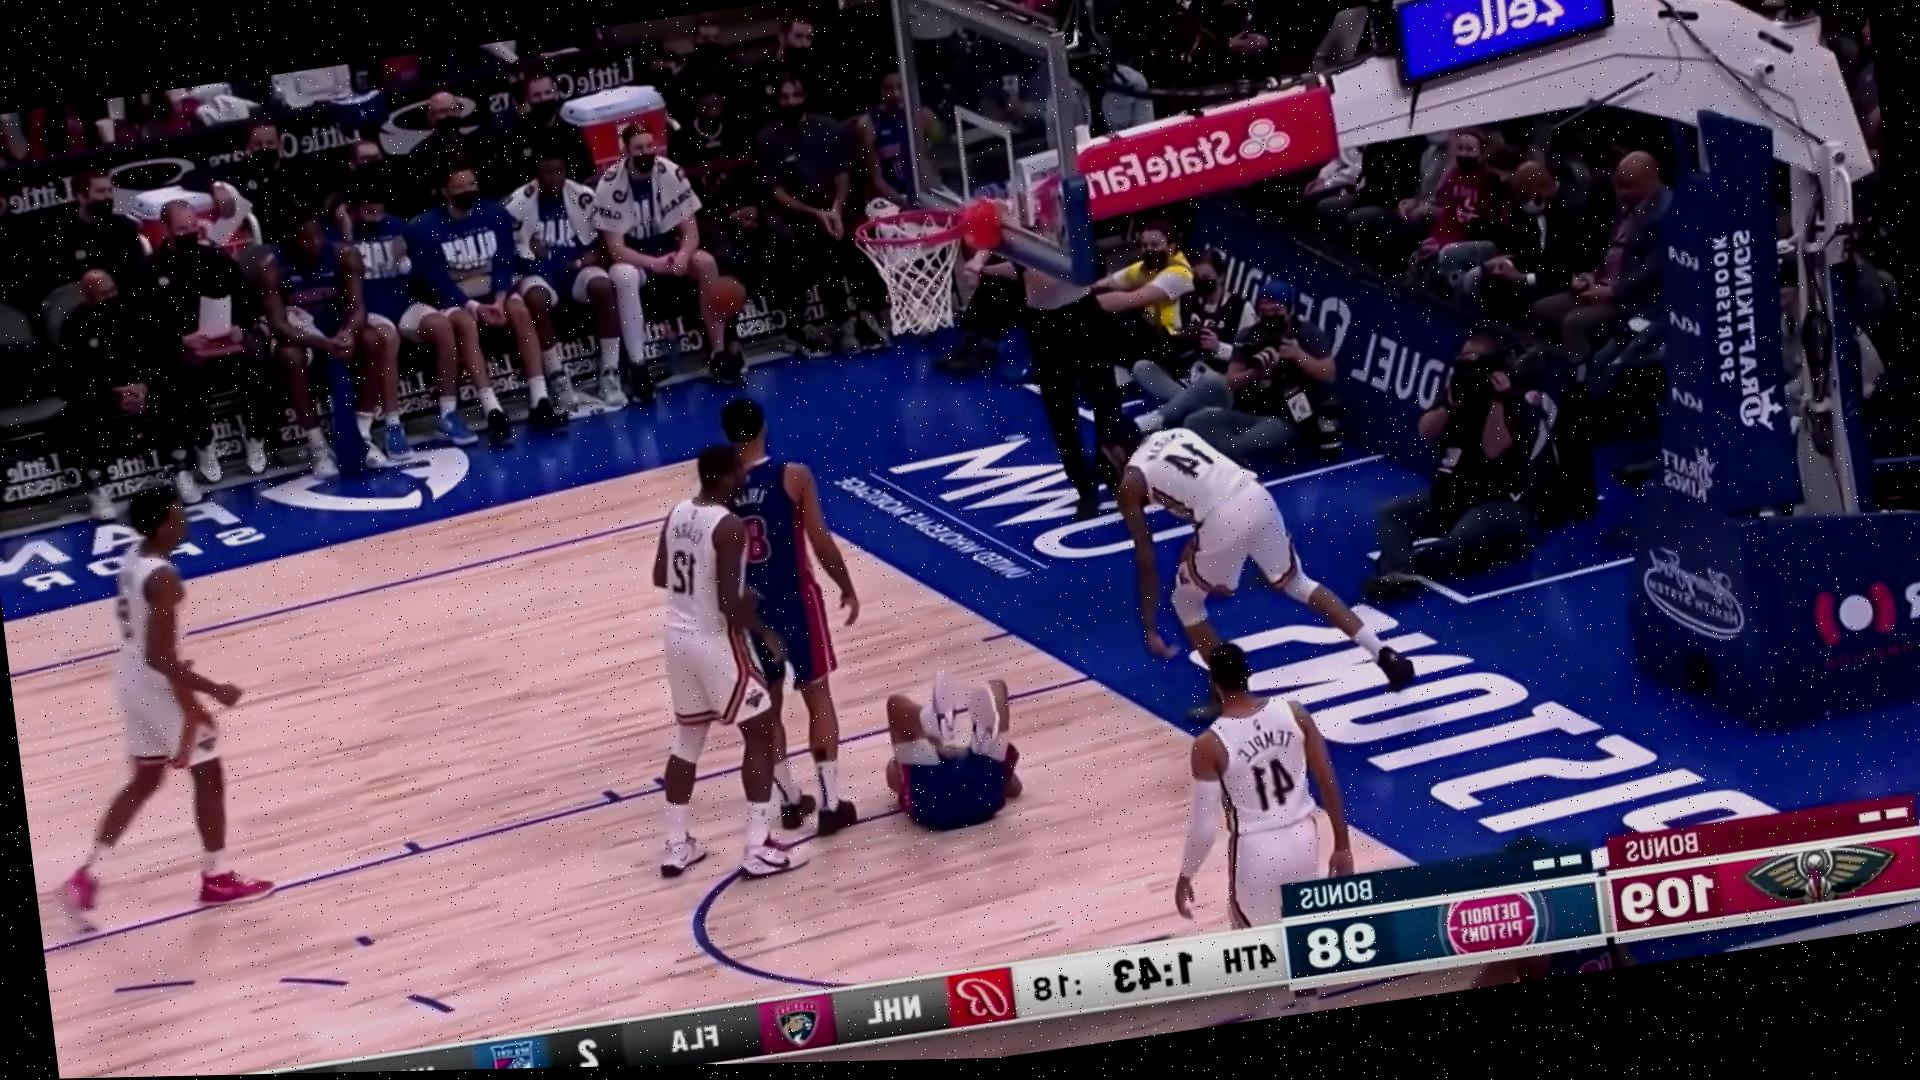foul: (679, 580, 1102, 902)
